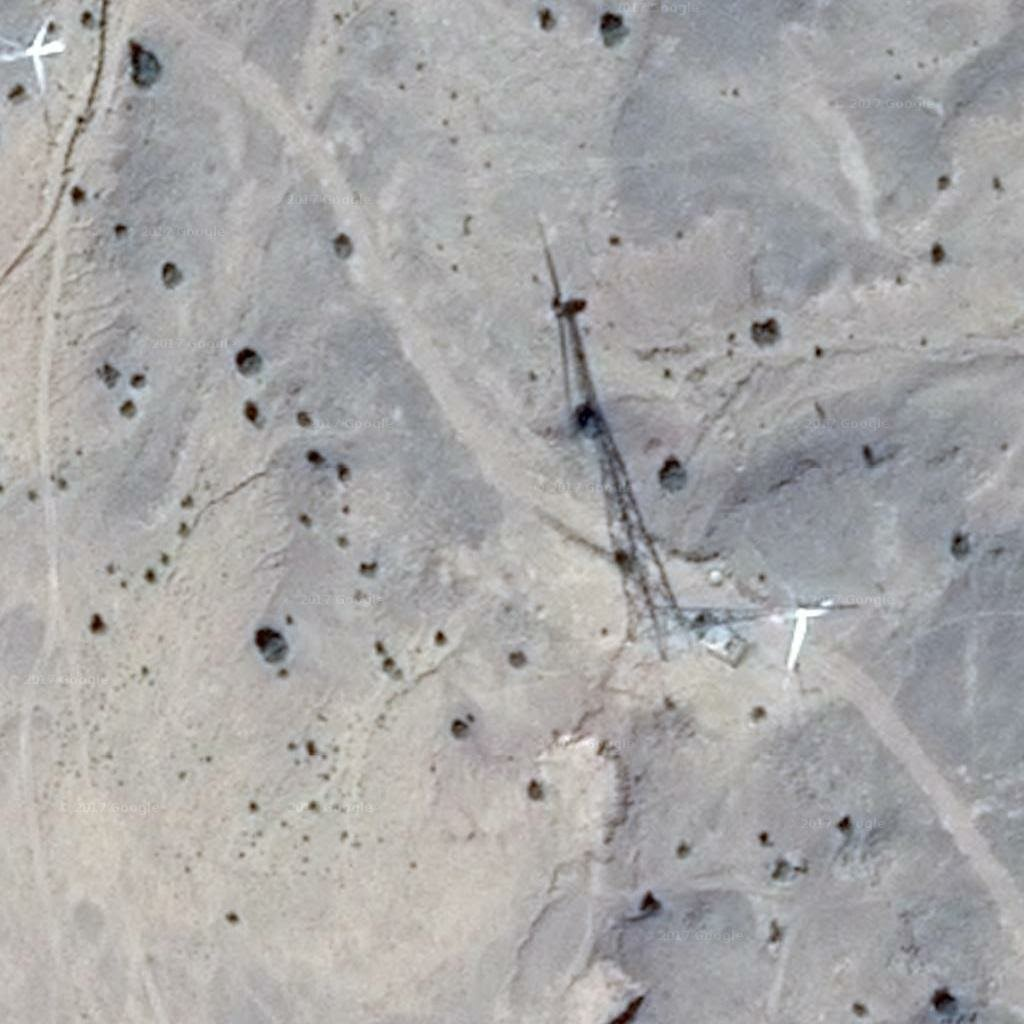Windmill: (529, 215, 698, 642)
